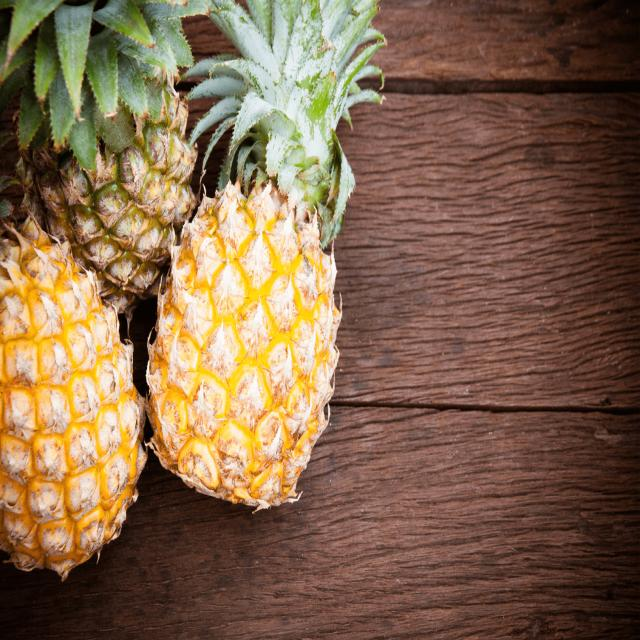pineapple: (140, 76, 342, 534), (0, 0, 195, 310), (0, 213, 150, 579)
